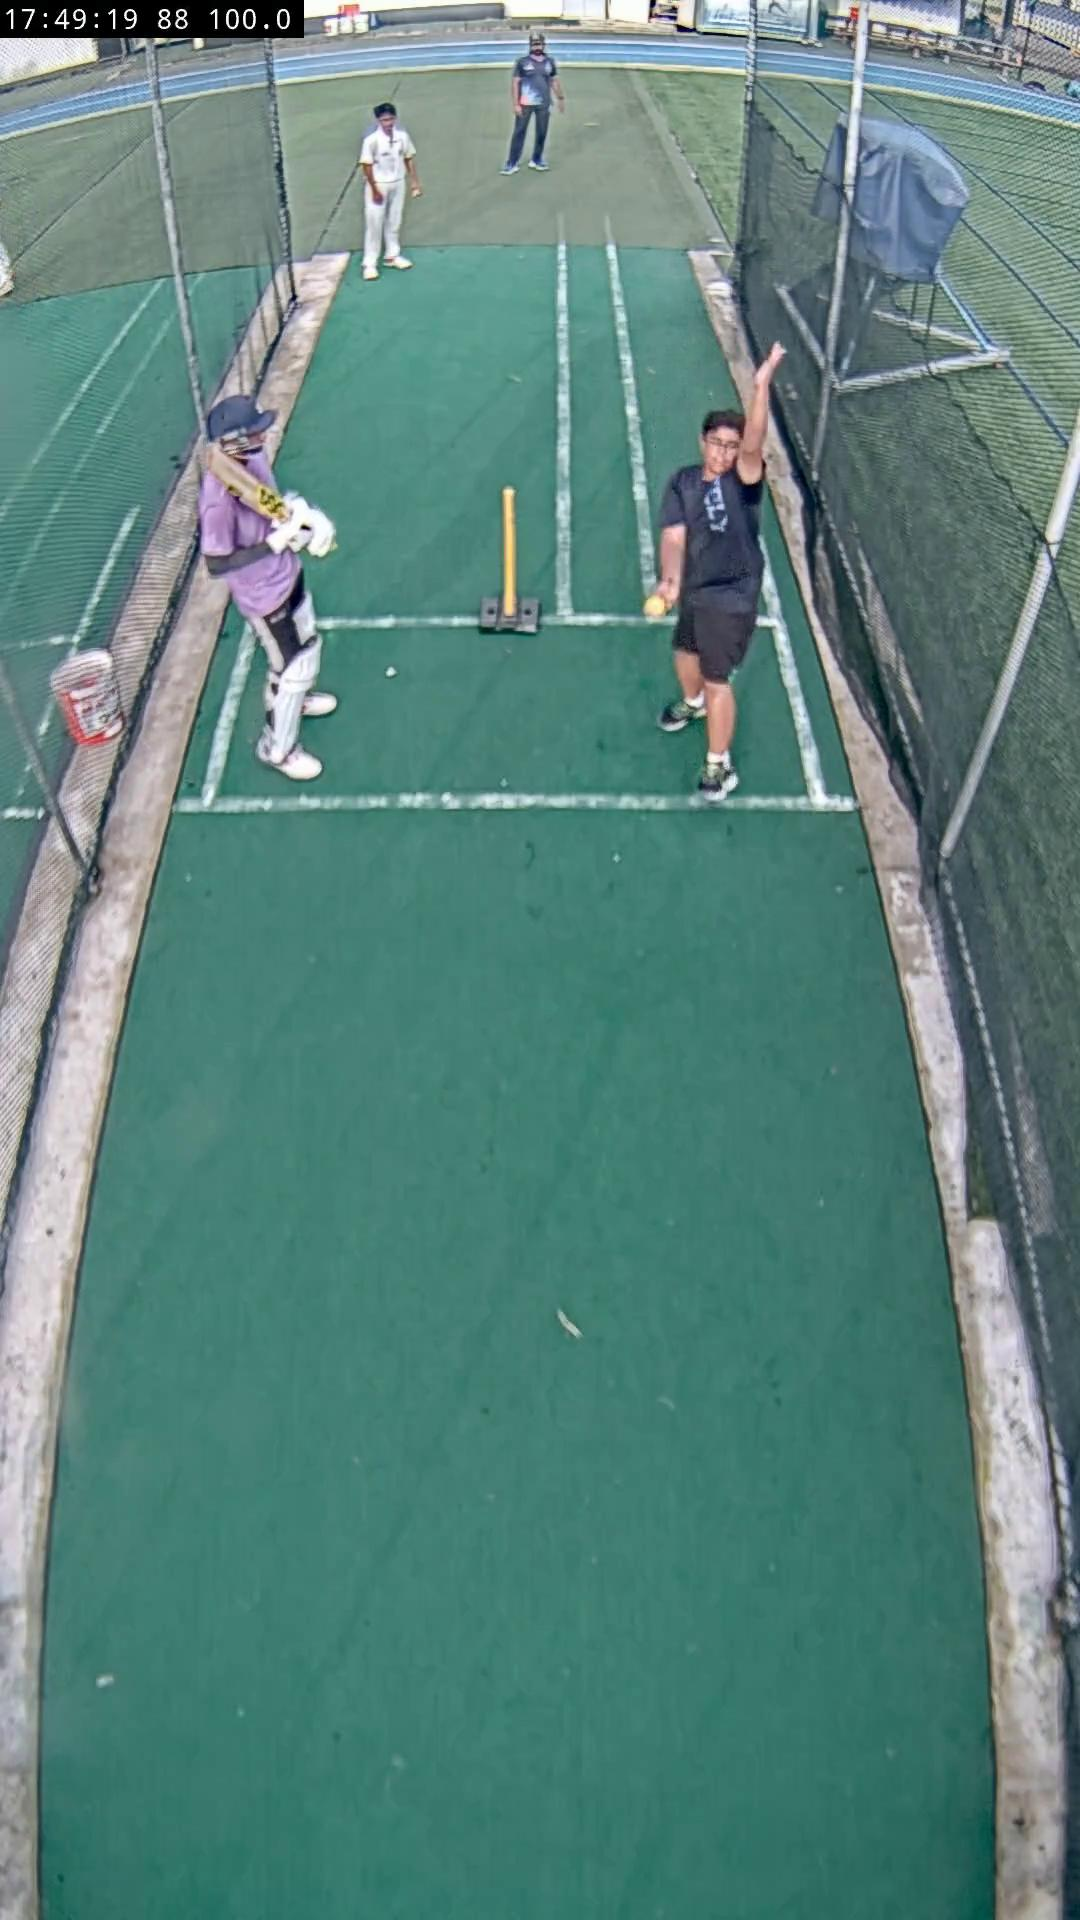ball: (641, 592, 671, 618)
stumps: (476, 488, 541, 634)
